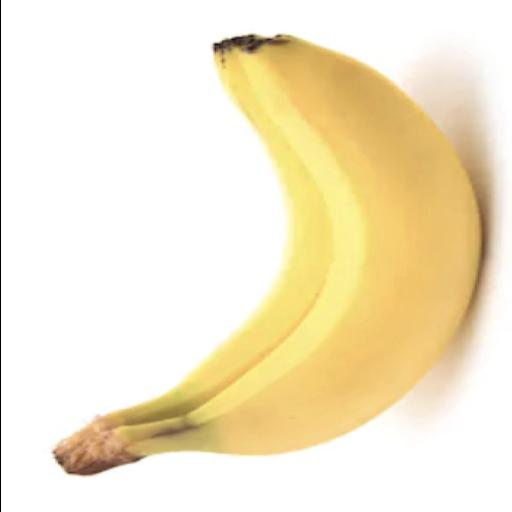banana: (67, 35, 482, 473), (56, 48, 331, 457)
